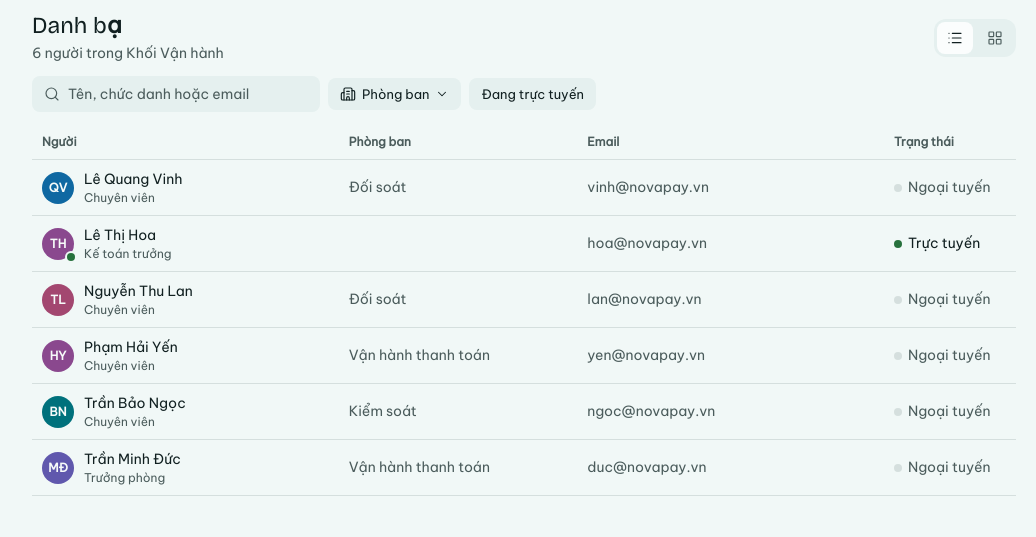
Test: ContactsScreen: suggestions in the empty search box › on a phone, covers the list without losing it, hides the filters, and closes on Esc
Click the search field labelled "Tên, chức danh hoặc email": (188, 94) [68, 76, 308, 112]
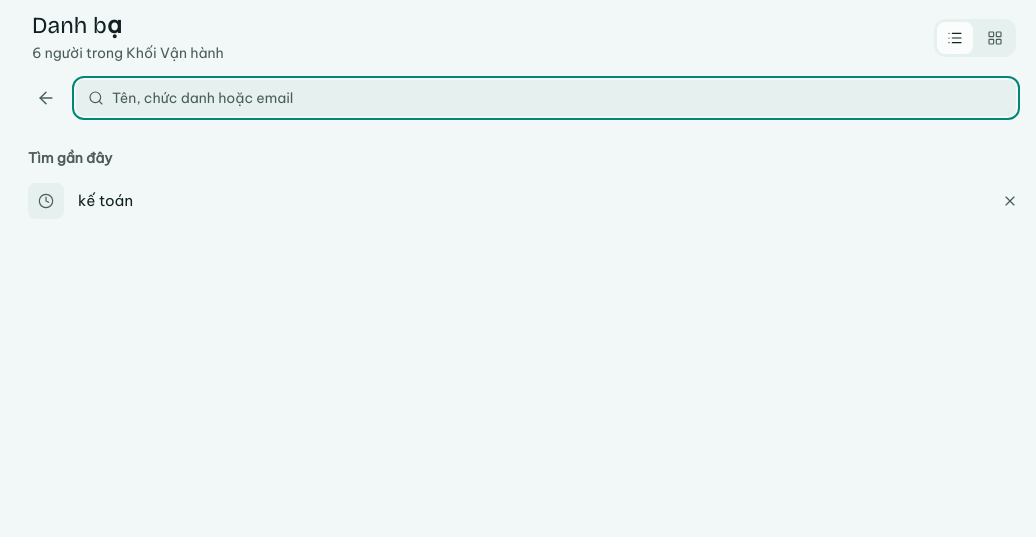
expect the button with aria-label "Tìm lại kế toán" is shown: met, box [12, 175, 988, 227]
expect the button "Đang trực tuyến" is gone: met
Press Escape
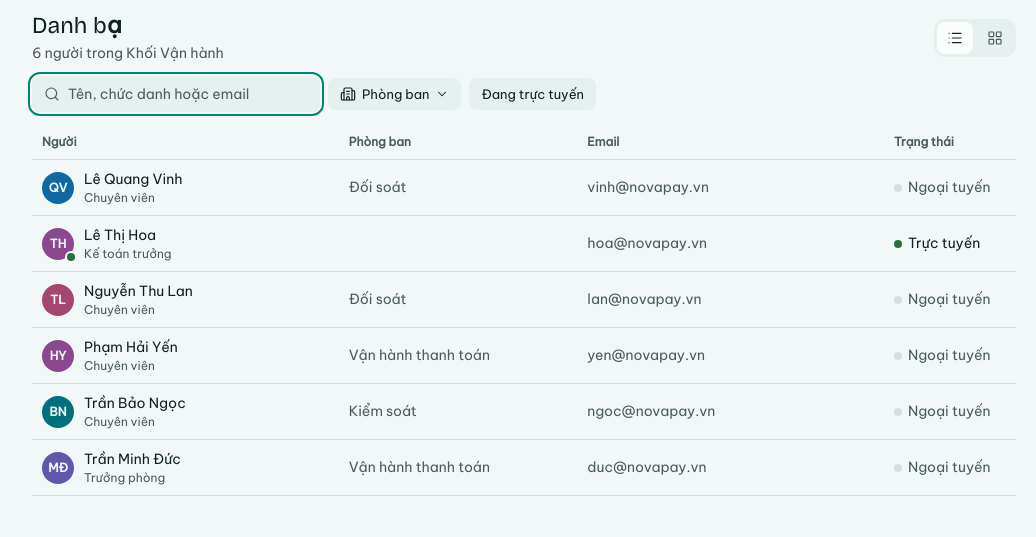
expect the button "Đang trực tuyến" is shown: met, box [469, 78, 596, 110]
